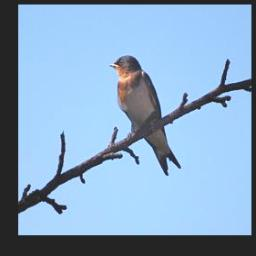Swallow: (109, 54, 181, 176)
